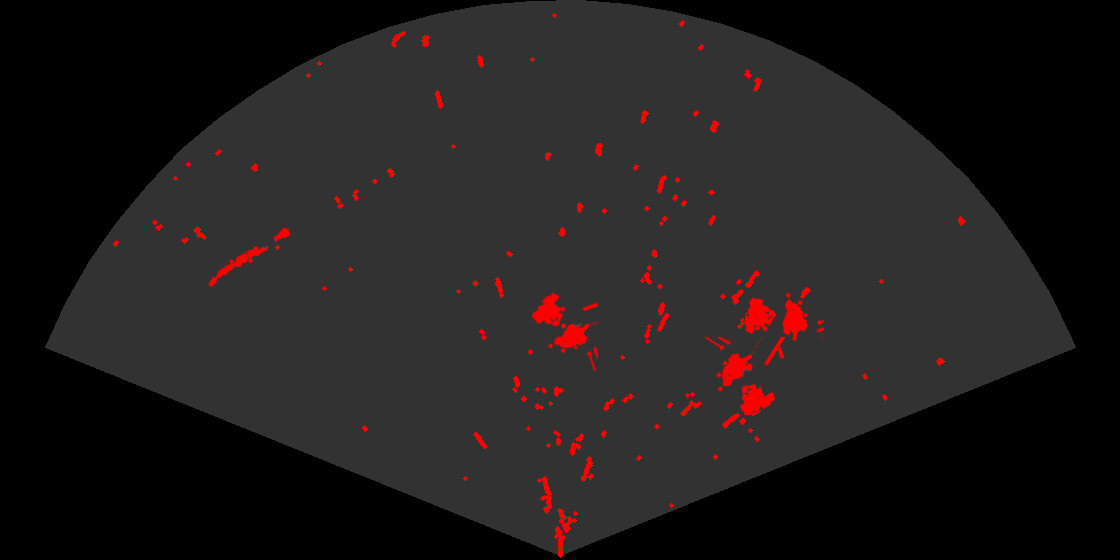cage: (703, 337, 787, 417), (742, 291, 824, 358), (530, 291, 598, 371)
chain: (207, 226, 292, 288)
